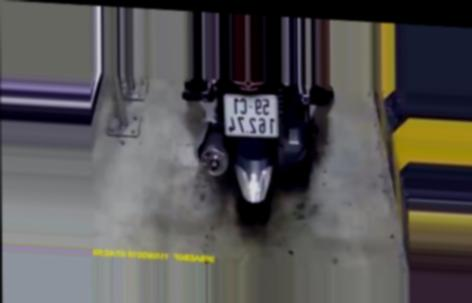License_Plate: (221, 89, 283, 142)
